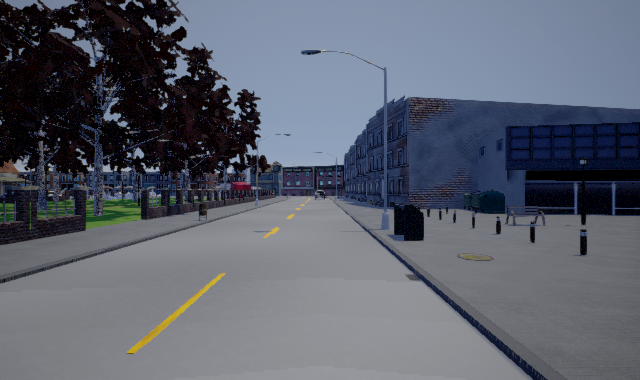vehicle: (313, 189, 326, 200)
